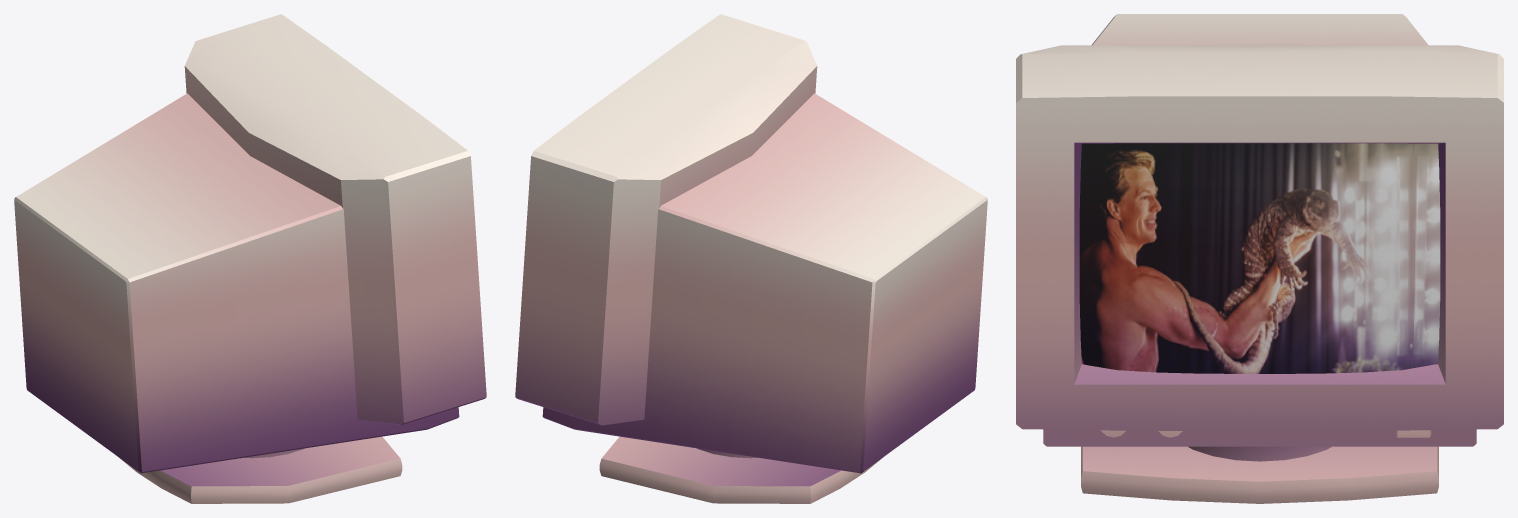
Rendered from freek computertje.fbx.
3 renders of one model, left to right at view 1: azimuth 30°, elevation 25°; view 2: azimuth 150°, elevation 25°; view 3: azimuth 270°, elevation 25°, orthographic. The views are drawn at different scales.
Visible parts, largest first — view 1: Cube.001; view 2: Cube.001; view 3: Cube.001.
Boxes of the visible parts, box(x1,y1,x2,y2) form: Cube.001: box(14, 14, 486, 503); Cube.001: box(515, 14, 987, 503); Cube.001: box(1016, 14, 1503, 503).
Bounding box in the file's own units: 398 × 395 × 412.
